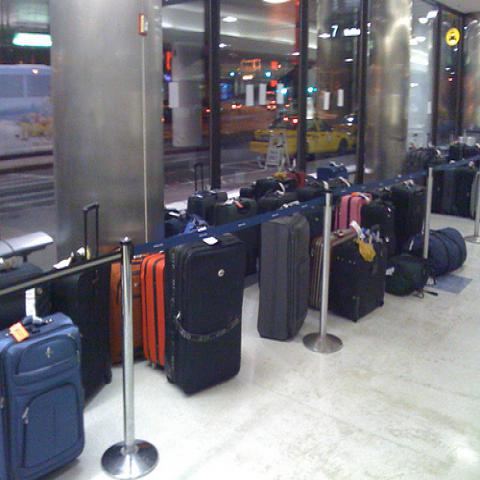car: (249, 113, 351, 158), (201, 96, 223, 120), (230, 99, 243, 110), (267, 102, 278, 110)
